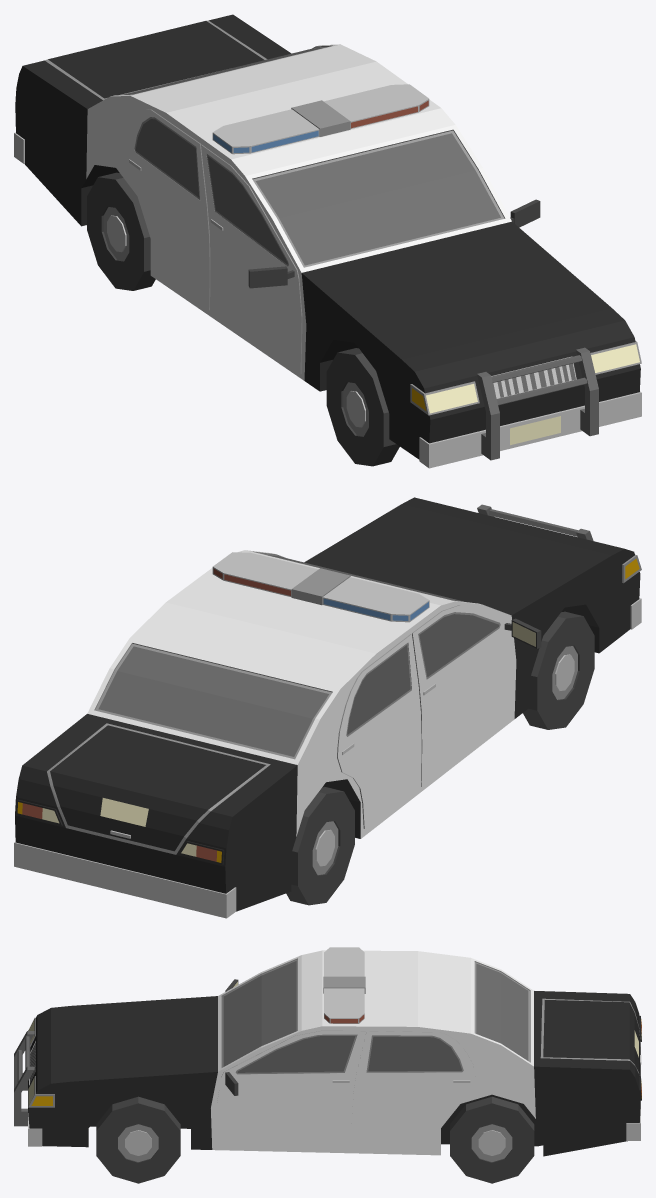
The model's file is police kar.fbx.
3 views of the same model, one above another, from view 1: azimuth 30°, elevation 25°; view 2: azimuth 150°, elevation 25°; view 3: azimuth 270°, elevation 25° (orthographic). The views are drawn at different scales.
Parts seen in each view (by area): view 1: sfsd_1, Cylinder_2_9, Cylinder_2_1; view 2: sfsd_1, Cylinder_2_9, Cylinder_2_1; view 3: sfsd_1, Cylinder_2_8, Cylinder_2.
Boxes of the visible parts, x1=… form: sfsd_1: x1=14, y1=14, x2=641, y2=468; Cylinder_2_9: x1=326, y1=348, x2=399, y2=466; Cylinder_2_1: x1=87, y1=172, x2=155, y2=290; sfsd_1: x1=14, y1=497, x2=641, y2=918; Cylinder_2_9: x1=523, y1=611, x2=594, y2=729; Cylinder_2_1: x1=286, y1=787, x2=354, y2=905; sfsd_1: x1=14, y1=947, x2=641, y2=1156; Cylinder_2_8: x1=96, y1=1096, x2=180, y2=1183; Cylinder_2: x1=450, y1=1096, x2=534, y2=1183.
Size of the model in its own units: 201 by 147 by 511.
